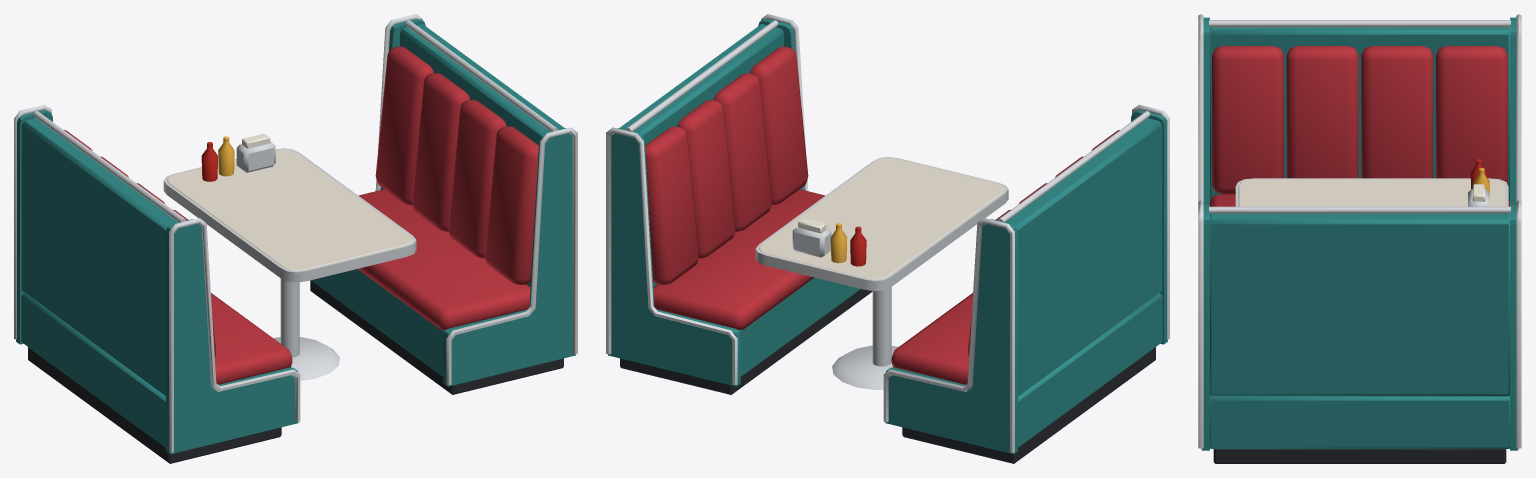
The model's file is Shop_Booth.fbx.
The picture shows the model from 3 angles, left to right: view 1: azimuth 30°, elevation 25°; view 2: azimuth 150°, elevation 25°; view 3: azimuth 270°, elevation 25°; orthographic projection. The views are drawn at different scales.
Visible parts, largest first — view 1: ShellA, VinylB, ShellB, TableTop, TableFrame, TrimB, TrimA, VinylA, BaseA, BaseB, Dispenser; view 2: ShellA, VinylB, ShellB, TableTop, TableFrame, TrimB, TrimA, VinylA, BaseA, BaseB, Dispenser; view 3: ShellB, VinylA, ShellA, TableTop, TrimB, TrimA, BaseB, TableFrame.
Boxes of the visible parts, x1,y1,x2,y2 form: ShellA: (16, 110, 298, 454); VinylB: (358, 46, 538, 330); ShellB: (311, 19, 575, 386); TableTop: (167, 149, 412, 270); TableFrame: (163, 148, 416, 380); TrimB: (375, 14, 577, 385); TrimA: (14, 104, 300, 452); VinylA: (64, 130, 292, 384); BaseA: (28, 347, 281, 463); BaseB: (310, 280, 563, 394); Dispenser: (236, 142, 275, 172); ShellA: (885, 110, 1167, 454); VinylB: (645, 46, 825, 330); ShellB: (608, 19, 860, 386); TableTop: (759, 158, 1004, 279); TableFrame: (755, 157, 1008, 389); TrimB: (606, 14, 808, 385); TrimA: (883, 104, 1169, 452); VinylA: (891, 130, 1119, 384); BaseA: (902, 347, 1155, 463); BaseB: (620, 289, 872, 394); Dispenser: (792, 226, 831, 257); ShellB: (1201, 204, 1518, 450); VinylA: (1209, 46, 1510, 206); ShellA: (1203, 17, 1516, 204); TableTop: (1238, 179, 1505, 206); TrimB: (1198, 200, 1521, 448); TrimA: (1198, 14, 1521, 201); BaseB: (1213, 449, 1506, 463); TableFrame: (1235, 178, 1508, 206).
Bounding box in the file's own units: 796 × 457 × 531.
